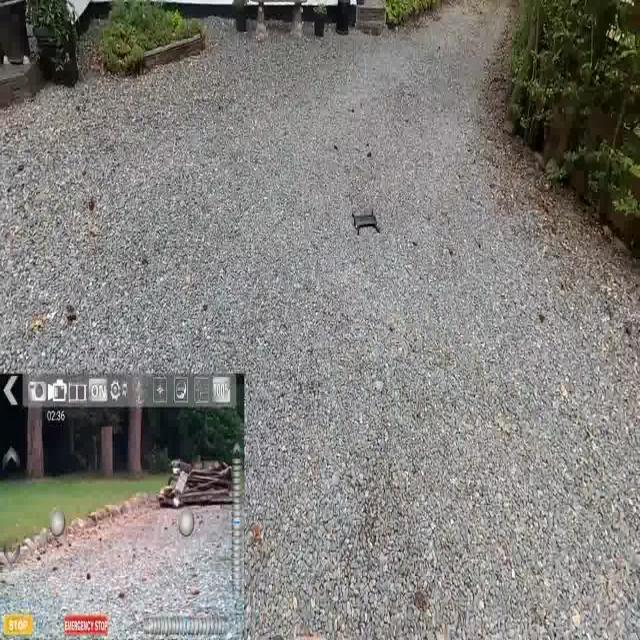drone: (352, 205, 382, 242)
